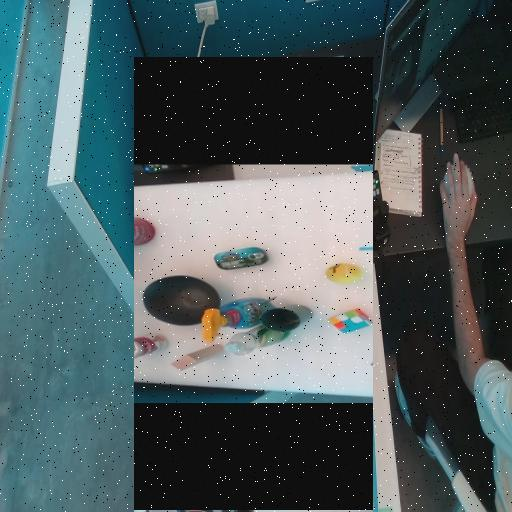bowl: (210, 186, 261, 237)
cleanser: (182, 254, 213, 319)
coffee_can: (291, 105, 320, 184)
jaco: (146, 402, 221, 511)
meat_can: (268, 245, 289, 298)
mug: (207, 291, 232, 341)
mustard_bottle: (246, 108, 266, 126)
rubik: (203, 368, 227, 393)
soup_can: (179, 144, 202, 197)
tennis_ball: (255, 357, 274, 391)
windex: (195, 232, 239, 298)
wooden_block: (167, 202, 192, 252)
workspace: (134, 171, 373, 398)
